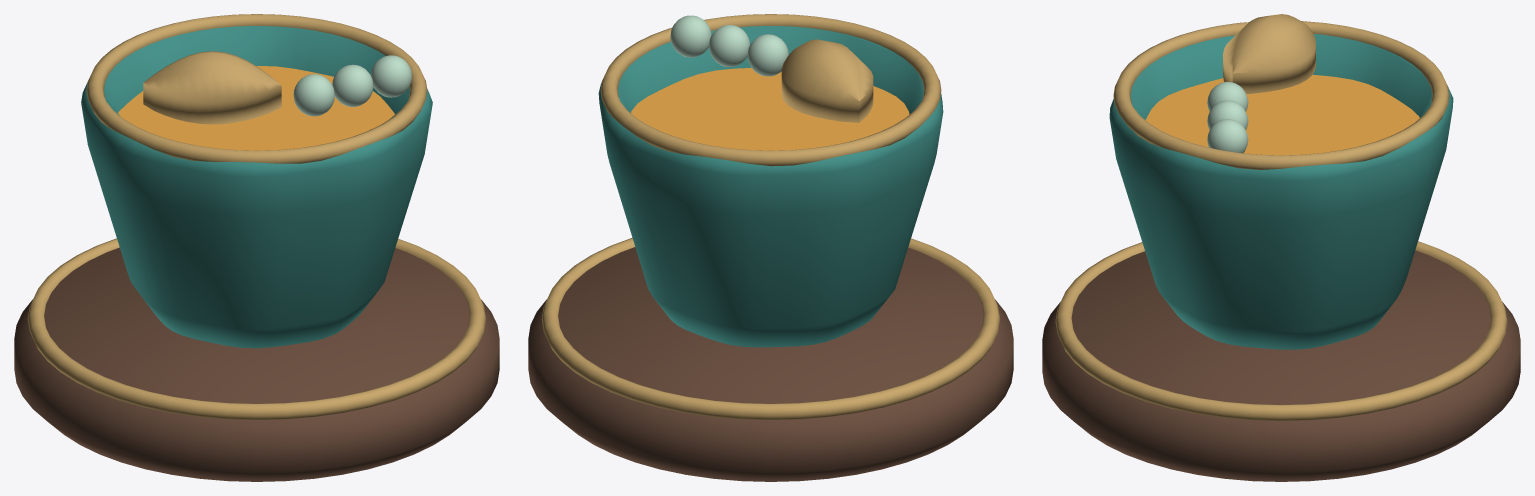
File: dew.glb
3 renders of one model, left to right at view 1: azimuth 30°, elevation 25°; view 2: azimuth 150°, elevation 25°; view 3: azimuth 270°, elevation 25°, orthographic.
Visible parts, largest first — view 1: dew_Walnut carved edge, dew_Glazed teal porcelain, dew_Brushed champagne brass, dew_Warm ember enamel, dew_Celadon milk glaze; view 2: dew_Walnut carved edge, dew_Glazed teal porcelain, dew_Brushed champagne brass, dew_Warm ember enamel, dew_Celadon milk glaze; view 3: dew_Walnut carved edge, dew_Glazed teal porcelain, dew_Brushed champagne brass, dew_Warm ember enamel, dew_Celadon milk glaze.
Part boxes in pixels (x1,y1,x2,y2): dew_Walnut carved edge: (14,247,499,481); dew_Glazed teal porcelain: (81,26,432,348); dew_Brushed champagne brass: (27,14,486,419); dew_Warm ember enamel: (118,66,394,150); dew_Celadon milk glaze: (293,55,411,116); dew_Walnut carved edge: (528,247,1013,481); dew_Glazed teal porcelain: (598,26,943,347); dew_Brushed champagne brass: (541,14,1000,419); dew_Warm ember enamel: (631,68,909,150); dew_Celadon milk glaze: (670,15,788,76); dew_Walnut carved edge: (1042,250,1520,481); dew_Glazed teal porcelain: (1109,34,1453,349); dew_Brushed champagne brass: (1055,14,1507,420); dew_Warm ember enamel: (1145,74,1419,155); dew_Celadon milk glaze: (1207,82,1248,153).
Size of the model in its own units: 0.98 by 0.784 by 0.98.
